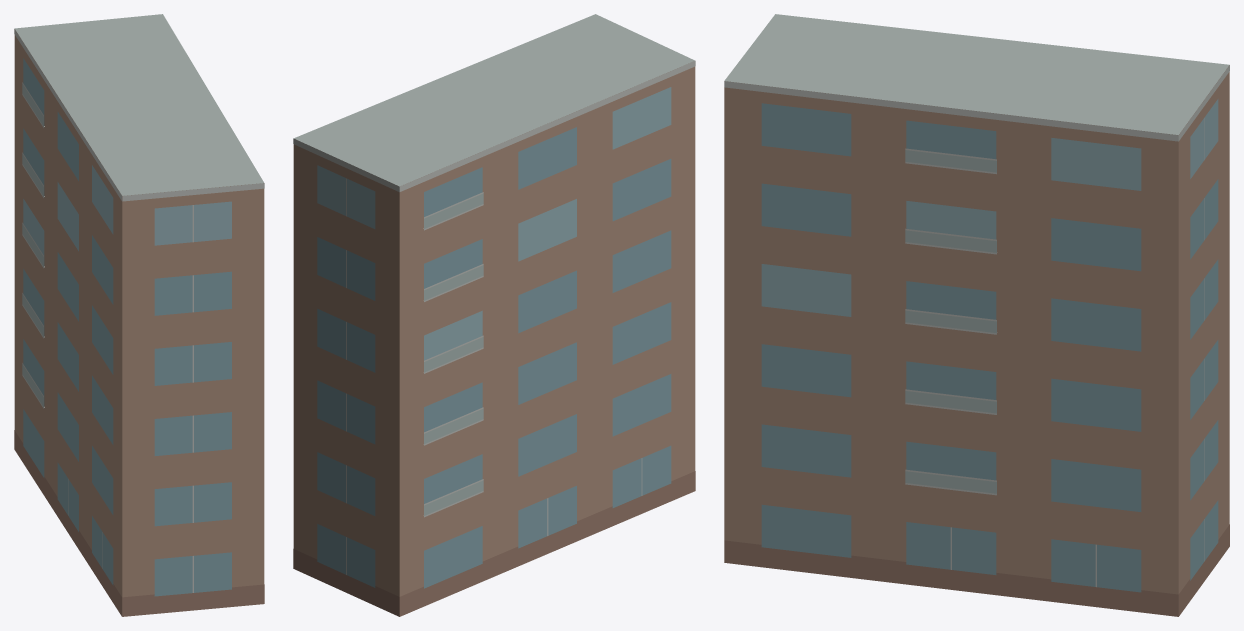
File: survey-upis-32950146.glb
The picture shows the model from 3 angles, left to right: view 1: azimuth 30°, elevation 25°; view 2: azimuth 150°, elevation 25°; view 3: azimuth 270°, elevation 25°; orthographic projection. The views are drawn at different scales.
Visible parts, largest first — view 1: survey-upis-32950146.tmp; view 2: survey-upis-32950146.tmp; view 3: survey-upis-32950146.tmp.
Boxes of the visible parts, x1,y1,x2,y2 form: survey-upis-32950146.tmp: (14, 14, 264, 616); survey-upis-32950146.tmp: (293, 14, 695, 616); survey-upis-32950146.tmp: (724, 14, 1229, 616).
Size of the model in its own units: 9.88 by 18.3 by 17.41.
